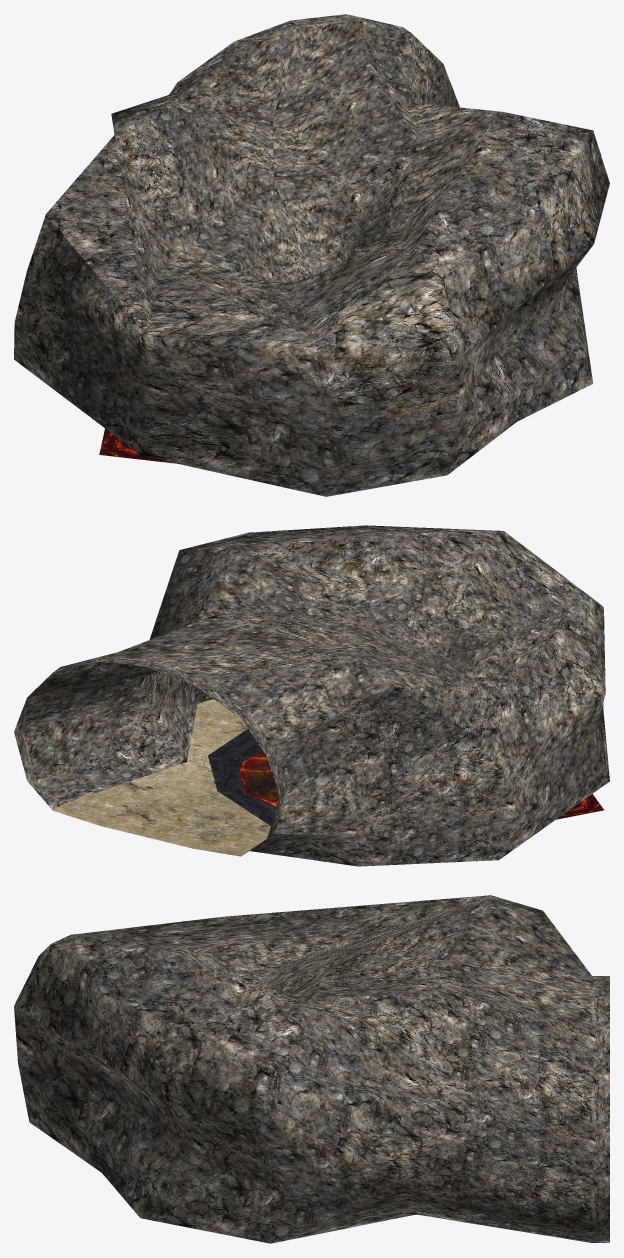
Rendered from pir_m_are_cav_deadend200_lava.fbx.
3 views of the same model, one above another, from view 1: azimuth 30°, elevation 25°; view 2: azimuth 150°, elevation 25°; view 3: azimuth 270°, elevation 25° (orthographic). The views are drawn at different scales.
Parts seen in each view (by area): view 1: deadend200_lava_wall, lava_hot; view 2: deadend200_lava_wall, deadend200_lava_floor, deadend200_lava_floor1, lava_cool_0, lava_hot; view 3: deadend200_lava_wall.
Part boxes in pixels (x1,y1,x2,y2): deadend200_lava_wall: (14,14,609,496); lava_hot: (99,428,177,463); deadend200_lava_wall: (14,525,609,866); deadend200_lava_floor: (53,699,270,856); deadend200_lava_floor1: (208,729,276,825); lava_cool_0: (239,751,279,807); lava_hot: (556,794,603,819); deadend200_lava_wall: (14,895,609,1243).
Bounding box in the file's own units: 16597 × 8196 × 16711.
Materials: 5 (5 with a texture image).
